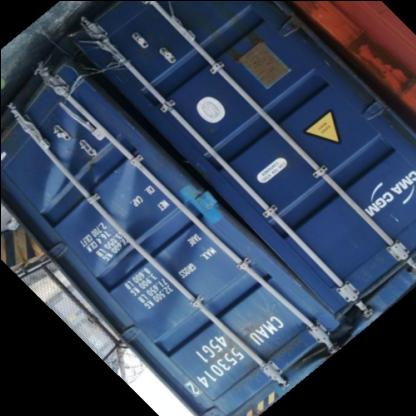Damage: (38, 84, 208, 311), (257, 297, 365, 356), (223, 30, 264, 64)
